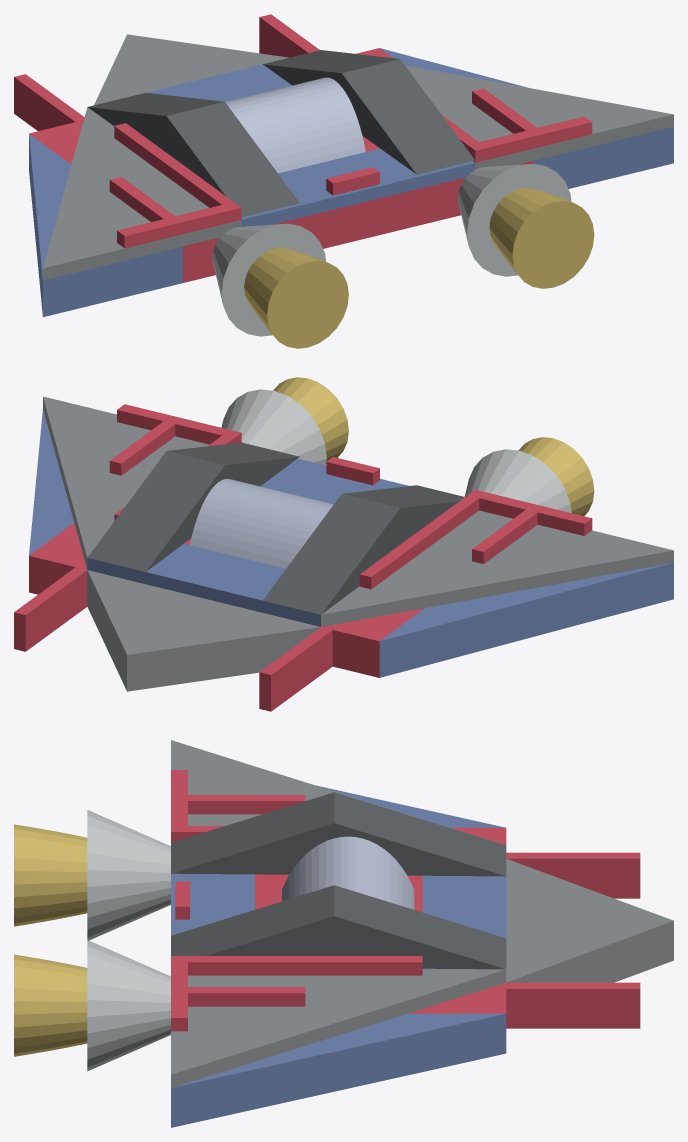
The model's file is player_ship_boost.glb.
The picture shows the model from 3 angles, top to bottom: view 1: azimuth 30°, elevation 25°; view 2: azimuth 150°, elevation 25°; view 3: azimuth 270°, elevation 25°; orthographic projection. The views are drawn at different scales.
Visible parts, largest first — view 1: Mesh_Mesh_head_geo.001_lambert2SG.002; view 2: Mesh_Mesh_head_geo.001_lambert2SG.002; view 3: Mesh_Mesh_head_geo.001_lambert2SG.002.
Boxes of the visible parts, x1=… form: Mesh_Mesh_head_geo.001_lambert2SG.002: x1=14, y1=14, x2=673, y2=348; Mesh_Mesh_head_geo.001_lambert2SG.002: x1=14, y1=377, x2=673, y2=711; Mesh_Mesh_head_geo.001_lambert2SG.002: x1=14, y1=740, x2=673, y2=1127.
Bounding box in the file's own units: 54 × 11 × 45.
